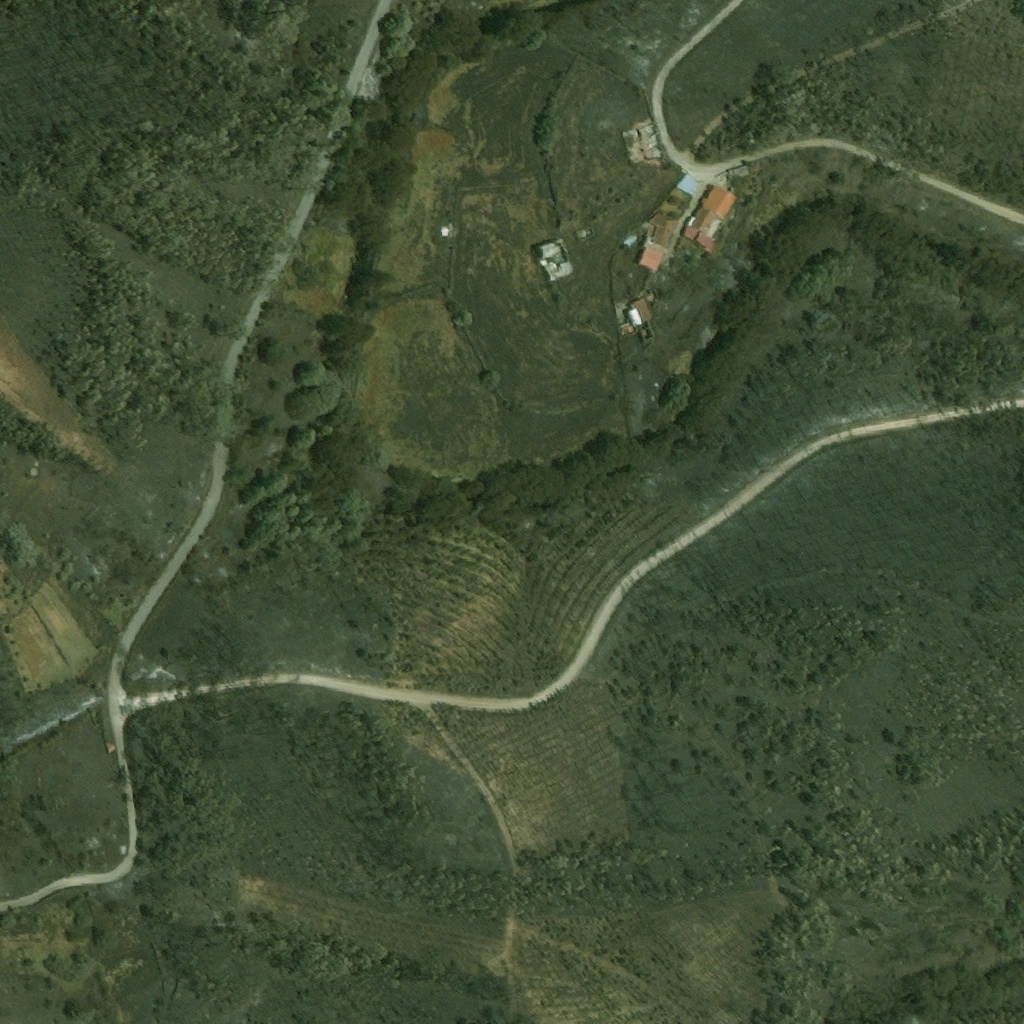0 no-damage: (682, 185, 737, 253), (647, 211, 680, 248), (637, 246, 663, 271), (678, 173, 699, 197), (728, 164, 753, 183)
2 major-damage: (627, 297, 653, 326)
3 destroyed: (638, 123, 661, 161), (536, 237, 570, 261), (542, 260, 575, 282), (445, 224, 458, 240)
